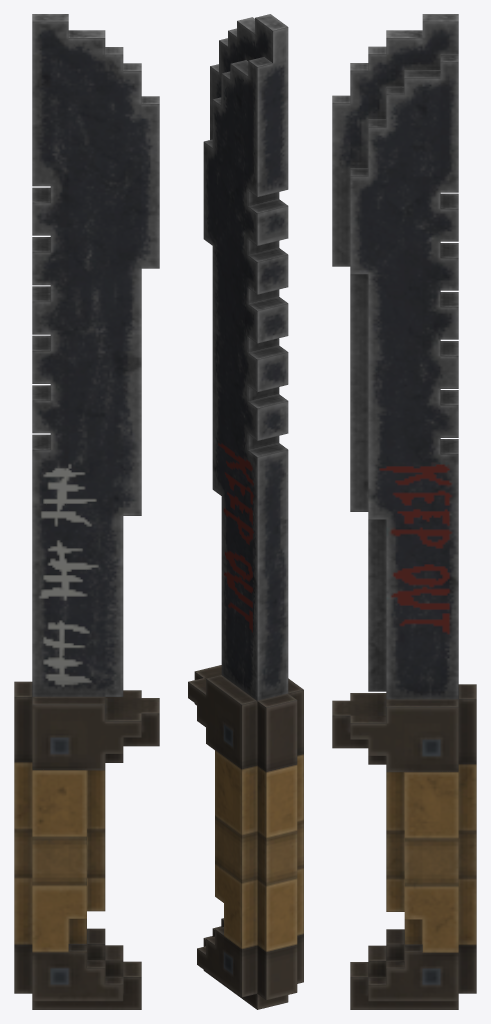
Rendered from RD_MACHETE_SURVIVAL.glb.
The picture shows the model from 3 angles, left to right: view 1: azimuth 90°, elevation 25°; view 2: azimuth 210°, elevation 25°; view 3: azimuth 270°, elevation 25°; orthographic projection.
Visible parts, largest first — view 1: MACHETE; view 2: MACHETE; view 3: MACHETE.
Part boxes in pixels (x1,y1,x2,y2): MACHETE: [14, 14, 159, 1009]; MACHETE: [188, 14, 303, 1009]; MACHETE: [332, 14, 476, 1009].
Bounding box in the file's own units: 0.0787 × 1.18 × 0.1575.
Materials: 1 (1 with a texture image).
